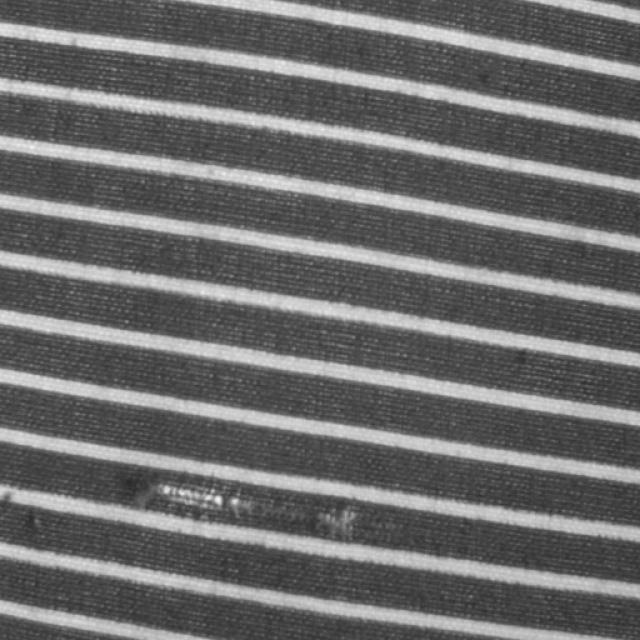Thread-Defect: (122, 466, 365, 541)
